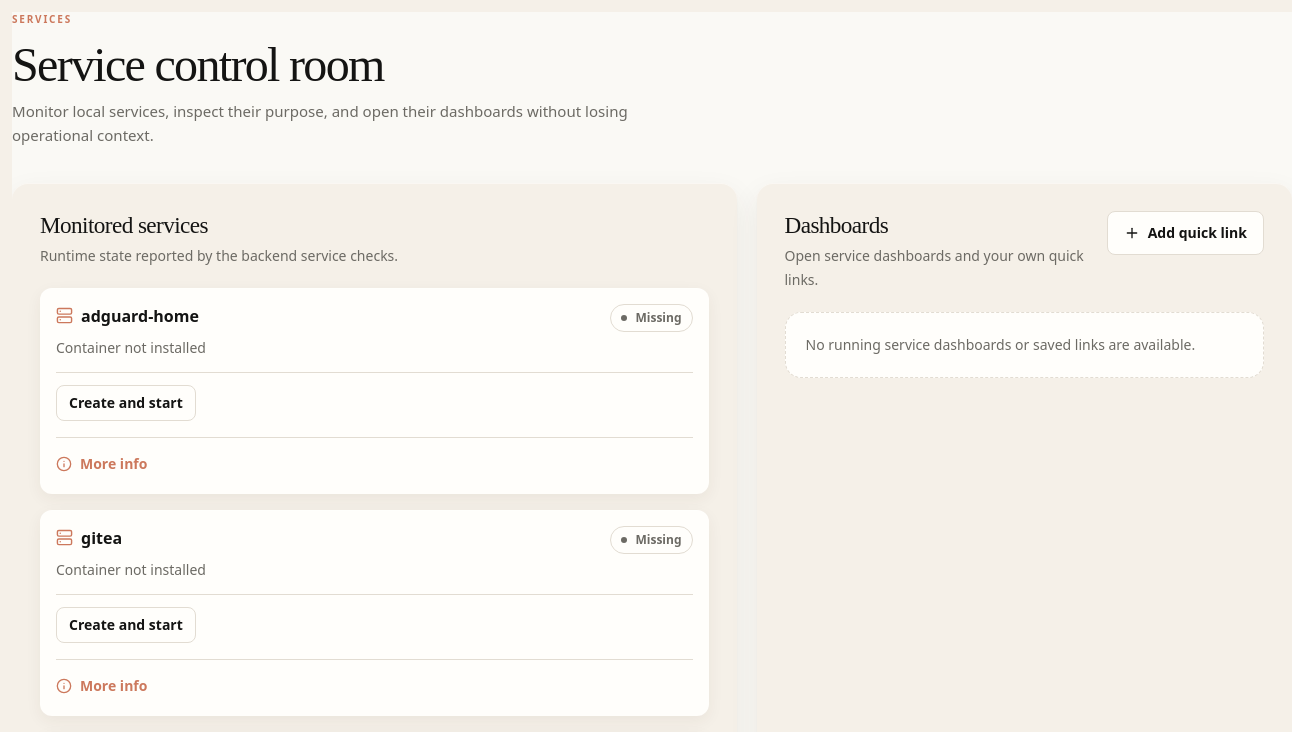
it: Services page operation flow › sends one stable operation ID and shows its current progress stage
Click the button "Create and start" below "adguard-home". click: {"x": 126, "y": 403}
box: [56,385,196,421]
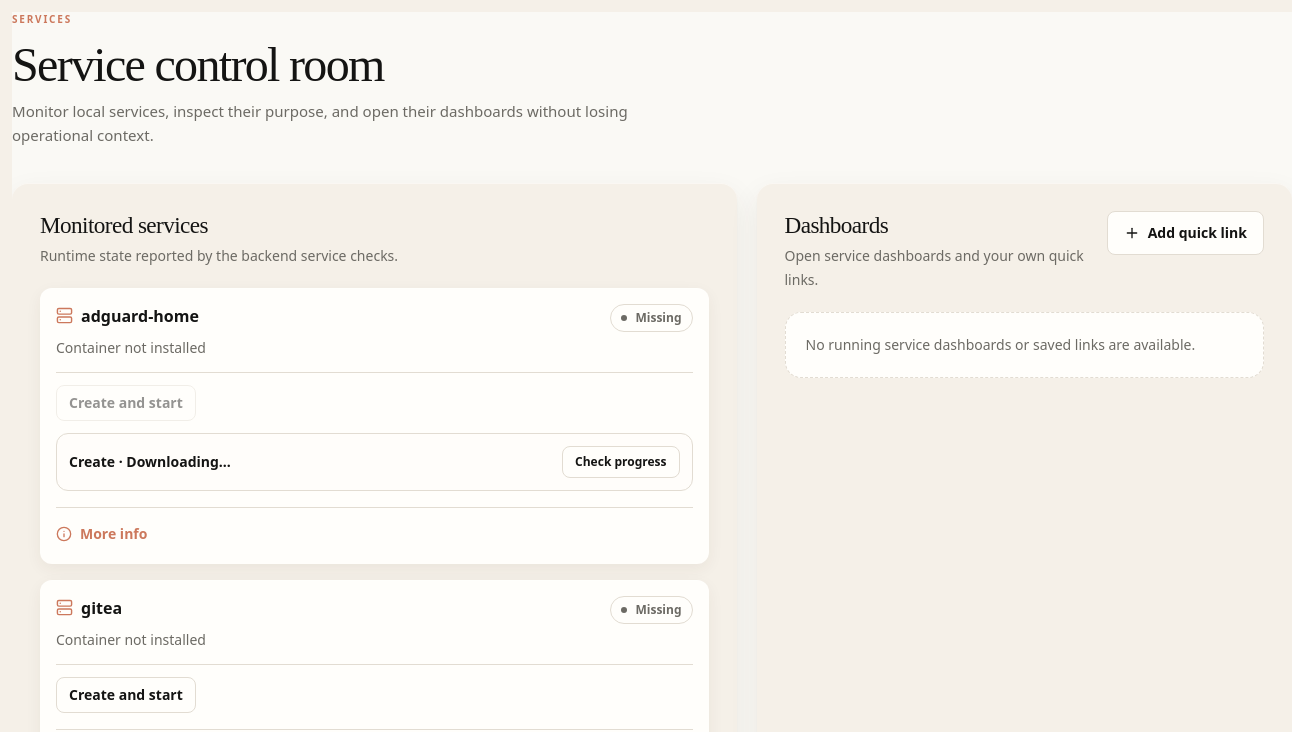
Now the text "Create · Downloading..." is shown, box [69,452,231,472]
